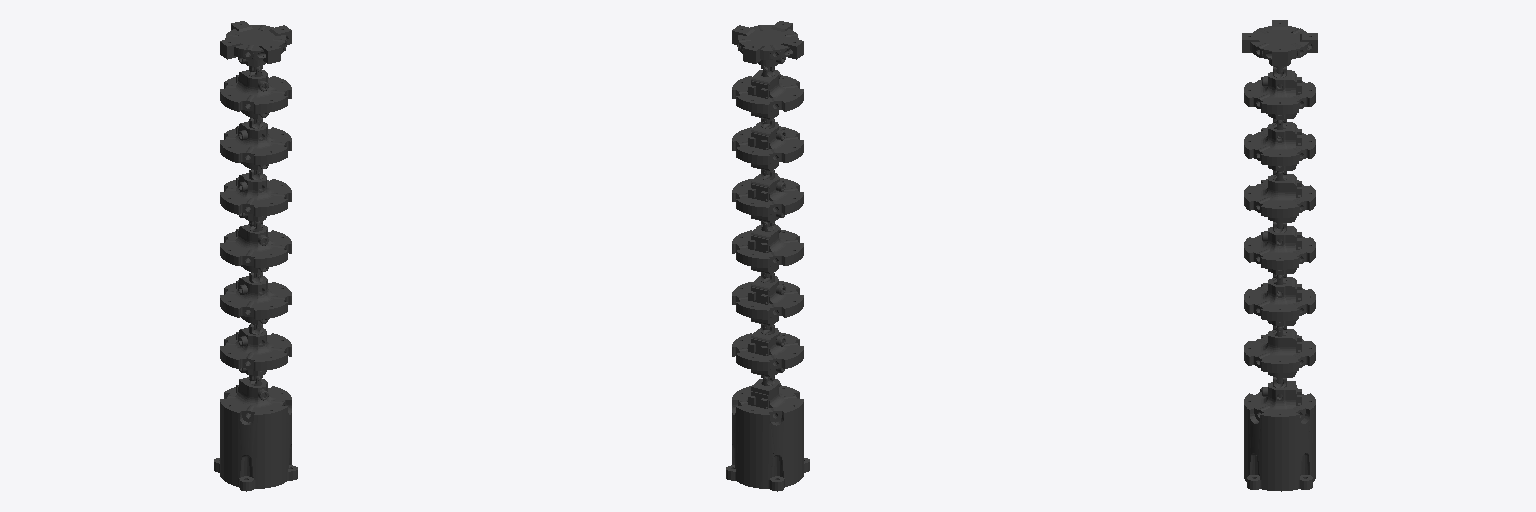
The robot description file, URDF, robot "continuum_urdf5":
<?xml version="1.0" encoding="utf-8"?>
<!-- This URDF was automatically created by SolidWorks to URDF Exporter! Originally created by [author] ([email redacted]) 
     Commit Version: 1.6.0-1-g15f4949  Build Version: 1.6.7594.29634
     For more information, please see http://wiki.ros.org/sw_urdf_exporter -->
<robot
  name="continuum_urdf5">
  <link
    name="base_link">
    <inertial>
      <origin
        xyz="3.02643195391316E-06 2.14015053832333E-05 0.0289362445784326"
        rpy="0 0 0" />
      <mass
        value="0.110606435738044" />
      <inertia
        ixx="4.76917532529207E-05"
        ixy="6.69262421229349E-10"
        ixz="-1.08351479667314E-08"
        iyy="4.77475569205128E-05"
        iyz="-6.85610799836889E-08"
        izz="3.32699333263548E-05" />
    </inertial>
    <visual>
      <origin
        xyz="0 0 0"
        rpy="0 0 0" />
      <geometry>
        <mesh
          filename="package://continuum_urdf5/meshes/base_link.STL" />
      </geometry>
      <material
        name="">
        <color
          rgba="0.3 0.3 0.3 1" />
      </material>
    </visual>
    <collision>
      <origin
        xyz="0 0 0"
        rpy="0 0 0" />
      <geometry>
        <mesh
          filename="package://continuum_urdf5/meshes/base_link.STL" />
      </geometry>
    </collision>
  </link>
  <link
    name="link1z">
    <inertial>
      <origin
        xyz="-2.12299450200802E-08 -8.53256570954031E-09 -3.87613239293998E-08"
        rpy="0 0 0" />
      <mass
        value="5.10060794085737E-05" />
      <inertia
        ixx="1.75822535577782E-10"
        ixy="3.83487536800791E-15"
        ixz="1.94367794649857E-16"
        iyy="1.59351158296881E-10"
        iyz="-5.38715599903244E-15"
        izz="1.76043379343405E-10" />
    </inertial>
    <visual>
      <origin
        xyz="0 0 0"
        rpy="0 0 0" />
      <geometry>
        <mesh
          filename="package://continuum_urdf5/meshes/link1z.STL" />
      </geometry>
      <material
        name="">
        <color
          rgba="0.3 0.3 0.3 1" />
      </material>
    </visual>
    <collision>
      <origin
        xyz="0 0 0"
        rpy="0 0 0" />
      <geometry>
        <mesh
          filename="package://continuum_urdf5/meshes/link1z.STL" />
      </geometry>
    </collision>
  </link>
  <joint
    name="joint1z"
    type="revolute">
    <origin
      xyz="0 0 0.0736549953937202"
      rpy="1.5707963267949 0 0" />
    <parent
      link="base_link" />
    <child
      link="link1z" />
    <axis
      xyz="0 0 1" />
    <limit
      lower="0"
      upper="0"
      effort="0"
      velocity="0" />
  </joint>
  <link
    name="link1x">
    <inertial>
      <origin
        xyz="-0.000190601760310987 0.019653930577233 -0.000724481897239907"
        rpy="0 0 0" />
      <mass
        value="0.0187335148666279" />
      <inertia
        ixx="2.41783807114397E-06"
        ixy="4.25962338942814E-11"
        ixz="1.51329387478613E-09"
        iyy="3.8436241905514E-06"
        iyz="6.71977364319963E-10"
        izz="2.40694329358004E-06" />
    </inertial>
    <visual>
      <origin
        xyz="0 0 0"
        rpy="0 0 0" />
      <geometry>
        <mesh
          filename="package://continuum_urdf5/meshes/link1x.STL" />
      </geometry>
      <material
        name="">
        <color
          rgba="0.3 0.3 0.3 1" />
      </material>
    </visual>
    <collision>
      <origin
        xyz="0 0 0"
        rpy="0 0 0" />
      <geometry>
        <mesh
          filename="package://continuum_urdf5/meshes/link1x.STL" />
      </geometry>
    </collision>
  </link>
  <joint
    name="joint1x"
    type="revolute">
    <origin
      xyz="0 0 0"
      rpy="0 0 0" />
    <parent
      link="link1z" />
    <child
      link="link1x" />
    <axis
      xyz="-1 0 0" />
    <limit
      lower="0"
      upper="0"
      effort="0"
      velocity="0" />
  </joint>
  <link
    name="link2z">
    <inertial>
      <origin
        xyz="-1.10891937610064E-08 -1.313884703813E-08 -2.40142944843257E-08"
        rpy="0 0 0" />
      <mass
        value="5.10060794085745E-05" />
      <inertia
        ixx="1.75822535577785E-10"
        ixy="3.8348753680166E-15"
        ixz="1.94367794638103E-16"
        iyy="1.59351158296884E-10"
        iyz="-5.38715599821793E-15"
        izz="1.76043379343409E-10" />
    </inertial>
    <visual>
      <origin
        xyz="0 0 0"
        rpy="0 0 0" />
      <geometry>
        <mesh
          filename="package://continuum_urdf5/meshes/link2z.STL" />
      </geometry>
      <material
        name="">
        <color
          rgba="0.3 0.3 0.3 1" />
      </material>
    </visual>
    <collision>
      <origin
        xyz="0 0 0"
        rpy="0 0 0" />
      <geometry>
        <mesh
          filename="package://continuum_urdf5/meshes/link2z.STL" />
      </geometry>
    </collision>
  </link>
  <joint
    name="joint2z"
    type="revolute">
    <origin
      xyz="0 0.0392500046062798 0"
      rpy="0 0 0" />
    <parent
      link="link1x" />
    <child
      link="link2z" />
    <axis
      xyz="0 0 1" />
    <limit
      lower="0"
      upper="0"
      effort="0"
      velocity="0" />
  </joint>
  <link
    name="link2x">
    <inertial>
      <origin
        xyz="-5.98376639435409E-05 0.019653905017403 -0.000644640826450434"
        rpy="0 0 0" />
      <mass
        value="0.0187335149509922" />
      <inertia
        ixx="2.4205413539412E-06"
        ixy="-1.01148648764289E-10"
        ixz="-1.53830182667667E-09"
        iyy="3.84362437516261E-06"
        iyz="8.19100701932167E-10"
        izz="2.40423982740677E-06" />
    </inertial>
    <visual>
      <origin
        xyz="0 0 0"
        rpy="0 0 0" />
      <geometry>
        <mesh
          filename="package://continuum_urdf5/meshes/link2x.STL" />
      </geometry>
      <material
        name="">
        <color
          rgba="0.3 0.3 0.3 1" />
      </material>
    </visual>
    <collision>
      <origin
        xyz="0 0 0"
        rpy="0 0 0" />
      <geometry>
        <mesh
          filename="package://continuum_urdf5/meshes/link2x.STL" />
      </geometry>
    </collision>
  </link>
  <joint
    name="joint2x"
    type="revolute">
    <origin
      xyz="0 0 0"
      rpy="0 0 0" />
    <parent
      link="link2z" />
    <child
      link="link2x" />
    <axis
      xyz="-1 0 0" />
    <limit
      lower="0"
      upper="0"
      effort="0"
      velocity="0" />
  </joint>
  <link
    name="link3z">
    <inertial>
      <origin
        xyz="1.1089193767166E-08 1.31388469826188E-08 -2.40142944647135E-08"
        rpy="0 0 0" />
      <mass
        value="5.10060794085739E-05" />
      <inertia
        ixx="1.75822535577782E-10"
        ixy="3.83487536805912E-15"
        ixz="-1.94367794552012E-16"
        iyy="1.59351158296882E-10"
        iyz="5.38715599899958E-15"
        izz="1.76043379343405E-10" />
    </inertial>
    <visual>
      <origin
        xyz="0 0 0"
        rpy="0 0 0" />
      <geometry>
        <mesh
          filename="package://continuum_urdf5/meshes/link3z.STL" />
      </geometry>
      <material
        name="">
        <color
          rgba="0.3 0.3 0.3 1" />
      </material>
    </visual>
    <collision>
      <origin
        xyz="0 0 0"
        rpy="0 0 0" />
      <geometry>
        <mesh
          filename="package://continuum_urdf5/meshes/link3z.STL" />
      </geometry>
    </collision>
  </link>
  <joint
    name="joint3z"
    type="revolute">
    <origin
      xyz="0 0.0392500000000002 0"
      rpy="0 0 0" />
    <parent
      link="link2x" />
    <child
      link="link3z" />
    <axis
      xyz="0 0 1" />
    <limit
      lower="0"
      upper="0"
      effort="0"
      velocity="0" />
  </joint>
  <link
    name="link3x">
    <inertial>
      <origin
        xyz="2.99887125579507E-05 0.0196539282384092 -0.000567612048998135"
        rpy="0 0 0" />
      <mass
        value="0.0187335149509922" />
      <inertia
        ixx="2.42324459949235E-06"
        ixy="4.44855439008388E-11"
        ixz="-1.53970983287726E-09"
        iyy="3.84362416067099E-06"
        iyz="6.75123384996969E-10"
        izz="2.40153679634726E-06" />
    </inertial>
    <visual>
      <origin
        xyz="0 0 0"
        rpy="0 0 0" />
      <geometry>
        <mesh
          filename="package://continuum_urdf5/meshes/link3x.STL" />
      </geometry>
      <material
        name="">
        <color
          rgba="0.3 0.3 0.3 1" />
      </material>
    </visual>
    <collision>
      <origin
        xyz="0 0 0"
        rpy="0 0 0" />
      <geometry>
        <mesh
          filename="package://continuum_urdf5/meshes/link3x.STL" />
      </geometry>
    </collision>
  </link>
  <joint
    name="joint3x"
    type="revolute">
    <origin
      xyz="0 0 0"
      rpy="0 0 0" />
    <parent
      link="link3z" />
    <child
      link="link3x" />
    <axis
      xyz="-1 0 0" />
    <limit
      lower="0"
      upper="0"
      effort="0"
      velocity="0" />
  </joint>
  <link
    name="link4z">
    <inertial>
      <origin
        xyz="-8.24412904988884E-09 -2.73776028791861E-08 -6.93047406770783E-09"
        rpy="0 0 0" />
      <mass
        value="5.10060794085738E-05" />
      <inertia
        ixx="1.75822535577782E-10"
        ixy="3.83487536811784E-15"
        ixz="1.94367794604845E-16"
        iyy="1.59351158296882E-10"
        iyz="-5.38715599979314E-15"
        izz="1.76043379343405E-10" />
    </inertial>
    <visual>
      <origin
        xyz="0 0 0"
        rpy="0 0 0" />
      <geometry>
        <mesh
          filename="package://continuum_urdf5/meshes/link4z.STL" />
      </geometry>
      <material
        name="">
        <color
          rgba="0.3 0.3 0.3 1" />
      </material>
    </visual>
    <collision>
      <origin
        xyz="0 0 0"
        rpy="0 0 0" />
      <geometry>
        <mesh
          filename="package://continuum_urdf5/meshes/link4z.STL" />
      </geometry>
    </collision>
  </link>
  <joint
    name="joint4z"
    type="revolute">
    <origin
      xyz="0 0.0392500142387559 0"
      rpy="0 0 0" />
    <parent
      link="link3x" />
    <child
      link="link4z" />
    <axis
      xyz="0 0 1" />
    <limit
      lower="0"
      upper="0"
      effort="0"
      velocity="0" />
  </joint>
  <link
    name="link4x">
    <inertial>
      <origin
        xyz="-0.000190588778921464 0.0196538896053952 -0.000724431231572024"
        rpy="0 0 0" />
      <mass
        value="0.0187335149509922" />
      <inertia
        ixx="2.41783807161766E-06"
        ixy="4.37312877510022E-11"
        ixz="1.51278228230449E-09"
        iyy="3.84362441190128E-06"
        iyz="6.72003640681149E-10"
        izz="2.40694307299164E-06" />
    </inertial>
    <visual>
      <origin
        xyz="0 0 0"
        rpy="0 0 0" />
      <geometry>
        <mesh
          filename="package://continuum_urdf5/meshes/link4x.STL" />
      </geometry>
      <material
        name="">
        <color
          rgba="0.3 0.3 0.3 1" />
      </material>
    </visual>
    <collision>
      <origin
        xyz="0 0 0"
        rpy="0 0 0" />
      <geometry>
        <mesh
          filename="package://continuum_urdf5/meshes/link4x.STL" />
      </geometry>
    </collision>
  </link>
  <joint
    name="joint4x"
    type="revolute">
    <origin
      xyz="0 0 0"
      rpy="0 0 0" />
    <parent
      link="link4z" />
    <child
      link="link4x" />
    <axis
      xyz="-1 0 0" />
    <limit
      lower="0"
      upper="0"
      effort="0"
      velocity="0" />
  </joint>
  <link
    name="link5z">
    <inertial>
      <origin
        xyz="-1.10891938977084E-08 -1.31388470103744E-08 -2.40142944759283E-08"
        rpy="0 0 0" />
      <mass
        value="5.10060794085761E-05" />
      <inertia
        ixx="1.7582253557779E-10"
        ixy="3.83487536795978E-15"
        ixz="1.94367794750661E-16"
        iyy="1.59351158296889E-10"
        iyz="-5.38715599765238E-15"
        izz="1.76043379343414E-10" />
    </inertial>
    <visual>
      <origin
        xyz="0 0 0"
        rpy="0 0 0" />
      <geometry>
        <mesh
          filename="package://continuum_urdf5/meshes/link5z.STL" />
      </geometry>
      <material
        name="">
        <color
          rgba="0.3 0.3 0.3 1" />
      </material>
    </visual>
    <collision>
      <origin
        xyz="0 0 0"
        rpy="0 0 0" />
      <geometry>
        <mesh
          filename="package://continuum_urdf5/meshes/link5z.STL" />
      </geometry>
    </collision>
  </link>
  <joint
    name="joint5z"
    type="revolute">
    <origin
      xyz="0 0.0392499857612441 0"
      rpy="0 0 0" />
    <parent
      link="link4x" />
    <child
      link="link5z" />
    <axis
      xyz="0 0 1" />
    <limit
      lower="0"
      upper="0"
      effort="0"
      velocity="0" />
  </joint>
  <link
    name="link5x">
    <inertial>
      <origin
        xyz="-5.98376629497453E-05 0.019653908163915 -0.00064464027957035"
        rpy="0 0 0" />
      <mass
        value="0.0187335149512613" />
      <inertia
        ixx="2.42054135395095E-06"
        ixy="-1.0127166881599E-10"
        ixz="-1.53836200404402E-09"
        iyy="3.84362436668432E-06"
        iyz="8.19127782655992E-10"
        izz="2.40423983599894E-06" />
    </inertial>
    <visual>
      <origin
        xyz="0 0 0"
        rpy="0 0 0" />
      <geometry>
        <mesh
          filename="package://continuum_urdf5/meshes/link5x.STL" />
      </geometry>
      <material
        name="">
        <color
          rgba="0.3 0.3 0.3 1" />
      </material>
    </visual>
    <collision>
      <origin
        xyz="0 0 0"
        rpy="0 0 0" />
      <geometry>
        <mesh
          filename="package://continuum_urdf5/meshes/link5x.STL" />
      </geometry>
    </collision>
  </link>
  <joint
    name="joint5x"
    type="revolute">
    <origin
      xyz="0 0 0"
      rpy="0 0 0" />
    <parent
      link="link5z" />
    <child
      link="link5x" />
    <axis
      xyz="-1 0 0" />
    <limit
      lower="0"
      upper="0"
      effort="0"
      velocity="0" />
  </joint>
  <link
    name="link6z">
    <inertial>
      <origin
        xyz="1.63965752378385E-08 2.12856403614126E-08 -3.74684654062874E-08"
        rpy="0 0 0" />
      <mass
        value="5.10060794085758E-05" />
      <inertia
        ixx="1.75822535577791E-10"
        ixy="3.83487536800402E-15"
        ixz="-1.94367794709572E-16"
        iyy="1.59351158296889E-10"
        iyz="5.38715599740671E-15"
        izz="1.76043379343415E-10" />
    </inertial>
    <visual>
      <origin
        xyz="0 0 0"
        rpy="0 0 0" />
      <geometry>
        <mesh
          filename="package://continuum_urdf5/meshes/link6z.STL" />
      </geometry>
      <material
        name="">
        <color
          rgba="0.3 0.3 0.3 1" />
      </material>
    </visual>
    <collision>
      <origin
        xyz="0 0 0"
        rpy="0 0 0" />
      <geometry>
        <mesh
          filename="package://continuum_urdf5/meshes/link6z.STL" />
      </geometry>
    </collision>
  </link>
  <joint
    name="joint6z"
    type="revolute">
    <origin
      xyz="0 0.0392499918532068 0"
      rpy="0 0 0" />
    <parent
      link="link5x" />
    <child
      link="link6z" />
    <axis
      xyz="0 0 1" />
    <limit
      lower="0"
      upper="0"
      effort="0"
      velocity="0" />
  </joint>
  <link
    name="link6x">
    <inertial>
      <origin
        xyz="3.00326399159385E-05 0.0196539131084539 -0.000567625511577884"
        rpy="0 0 0" />
      <mass
        value="0.0187335148671662" />
      <inertia
        ixx="2.42324438657058E-06"
        ixy="4.43624535801669E-11"
        ixz="-1.53839845912206E-09"
        iyy="3.84362437292757E-06"
        iyz="6.7370103091887E-10"
        izz="2.40153679602447E-06" />
    </inertial>
    <visual>
      <origin
        xyz="0 0 0"
        rpy="0 0 0" />
      <geometry>
        <mesh
          filename="package://continuum_urdf5/meshes/link6x.STL" />
      </geometry>
      <material
        name="">
        <color
          rgba="0.3 0.3 0.3 1" />
      </material>
    </visual>
    <collision>
      <origin
        xyz="0 0 0"
        rpy="0 0 0" />
      <geometry>
        <mesh
          filename="package://continuum_urdf5/meshes/link6x.STL" />
      </geometry>
    </collision>
  </link>
  <joint
    name="joint6x"
    type="revolute">
    <origin
      xyz="0 0 0"
      rpy="0 0 0" />
    <parent
      link="link6z" />
    <child
      link="link6x" />
    <axis
      xyz="-1 0 0" />
    <limit
      lower="0"
      upper="0"
      effort="0"
      velocity="0" />
  </joint>
  <link
    name="link7z">
    <inertial>
      <origin
        xyz="5.47435332351791E-09 -4.90884172199557E-09 -1.56807544866133E-08"
        rpy="0 0 0" />
      <mass
        value="5.10060794085738E-05" />
      <inertia
        ixx="1.75822535577782E-10"
        ixy="3.83487536788825E-15"
        ixz="1.94367794656637E-16"
        iyy="1.59351158296881E-10"
        iyz="-5.38715600099919E-15"
        izz="1.76043379343406E-10" />
    </inertial>
    <visual>
      <origin
        xyz="0 0 0"
        rpy="0 0 0" />
      <geometry>
        <mesh
          filename="package://continuum_urdf5/meshes/link7z.STL" />
      </geometry>
      <material
        name="">
        <color
          rgba="0.3 0.3 0.3 1" />
      </material>
    </visual>
    <collision>
      <origin
        xyz="0 0 0"
        rpy="0 0 0" />
      <geometry>
        <mesh
          filename="package://continuum_urdf5/meshes/link7z.STL" />
      </geometry>
    </collision>
  </link>
  <joint
    name="joint7z"
    type="revolute">
    <origin
      xyz="0 0.0392499999167883 0"
      rpy="0 0 0" />
    <parent
      link="link6x" />
    <child
      link="link7z" />
    <axis
      xyz="0 0 1" />
    <limit
      lower="0"
      upper="0"
      effort="0"
      velocity="0" />
  </joint>
  <link
    name="link7x">
    <inertial>
      <origin
        xyz="-0.000142442359717174 0.0179931243015739 3.37475197882577E-08"
        rpy="0 0 0" />
      <mass
        value="0.0138483275160787" />
      <inertia
        ixx="1.8876008064342E-06"
        ixy="-3.24221584024593E-09"
        ixz="-1.5197362935712E-12"
        iyy="3.40485259045024E-06"
        iyz="-2.39504965377532E-12"
        izz="1.89385995302496E-06" />
    </inertial>
    <visual>
      <origin
        xyz="0 0 0"
        rpy="0 0 0" />
      <geometry>
        <mesh
          filename="package://continuum_urdf5/meshes/link7x.STL" />
      </geometry>
      <material
        name="">
        <color
          rgba="0.3 0.3 0.3 1" />
      </material>
    </visual>
    <collision>
      <origin
        xyz="0 0 0"
        rpy="0 0 0" />
      <geometry>
        <mesh
          filename="package://continuum_urdf5/meshes/link7x.STL" />
      </geometry>
    </collision>
  </link>
  <joint
    name="joint7x"
    type="revolute">
    <origin
      xyz="0 0 0"
      rpy="0 0 0" />
    <parent
      link="link7z" />
    <child
      link="link7x" />
    <axis
      xyz="-1 0 0" />
    <limit
      lower="0"
      upper="0"
      effort="0"
      velocity="0" />
  </joint>
</robot>

--- Facts derived from the render (not from the file) ---
Views: 3 orthographic renders of the robot side by side, from view 1: azimuth 30°, elevation 25°; view 2: azimuth 150°, elevation 25°; view 3: azimuth 270°, elevation 25°.
Robot: continuum_urdf5 — 15 links, 14 joints (14 revolute); root link base_link; default pose: every joint at zero.
Visible links, largest first — view 1: base_link, link1x, link4x, link5x, link3x, link2x, link6x, link7x; view 2: base_link, link1x, link4x, link3x, link5x, link6x, link2x, link7x; view 3: base_link, link6x, link1x, link4x, link2x, link5x, link3x, link7x.
Boxes of the visible links, x1,y1,x2,y2 form: base_link: (214, 376, 297, 491); link1x: (220, 324, 291, 380); link4x: (220, 169, 291, 225); link5x: (220, 118, 291, 175); link3x: (220, 222, 291, 278); link2x: (220, 272, 291, 329); link6x: (220, 67, 291, 123); link7x: (220, 21, 291, 71); base_link: (726, 376, 809, 491); link1x: (732, 324, 803, 380); link4x: (732, 170, 803, 225); link3x: (732, 222, 803, 278); link5x: (732, 118, 803, 175); link6x: (732, 67, 803, 123); link2x: (732, 273, 803, 329); link7x: (732, 21, 803, 71); base_link: (1244, 377, 1315, 491); link6x: (1244, 66, 1315, 122); link1x: (1244, 327, 1315, 383); link4x: (1244, 172, 1315, 228); link2x: (1244, 275, 1315, 329); link5x: (1244, 120, 1315, 174); link3x: (1244, 222, 1315, 277); link7x: (1242, 20, 1317, 73).
Size in the robot's own frame: 0.052 by 0.052 by 0.3338 metres.
15 mesh visuals loaded from 15 distinct referenced files (15 binary STL).